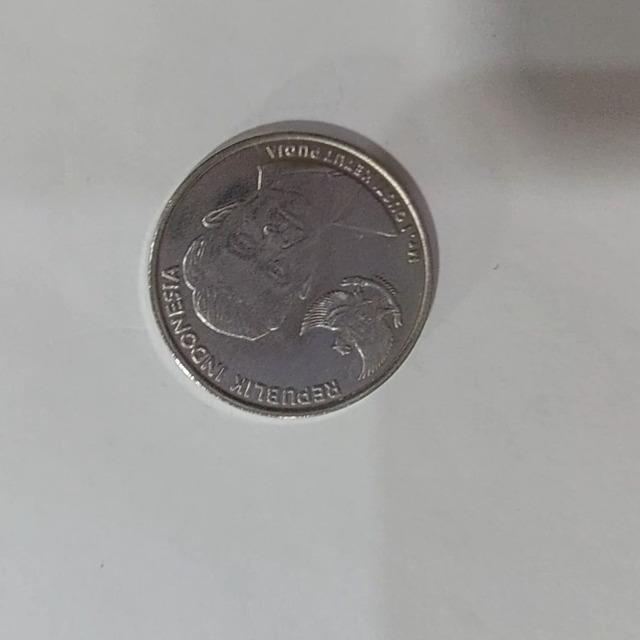Rp100: (144, 119, 439, 419)
